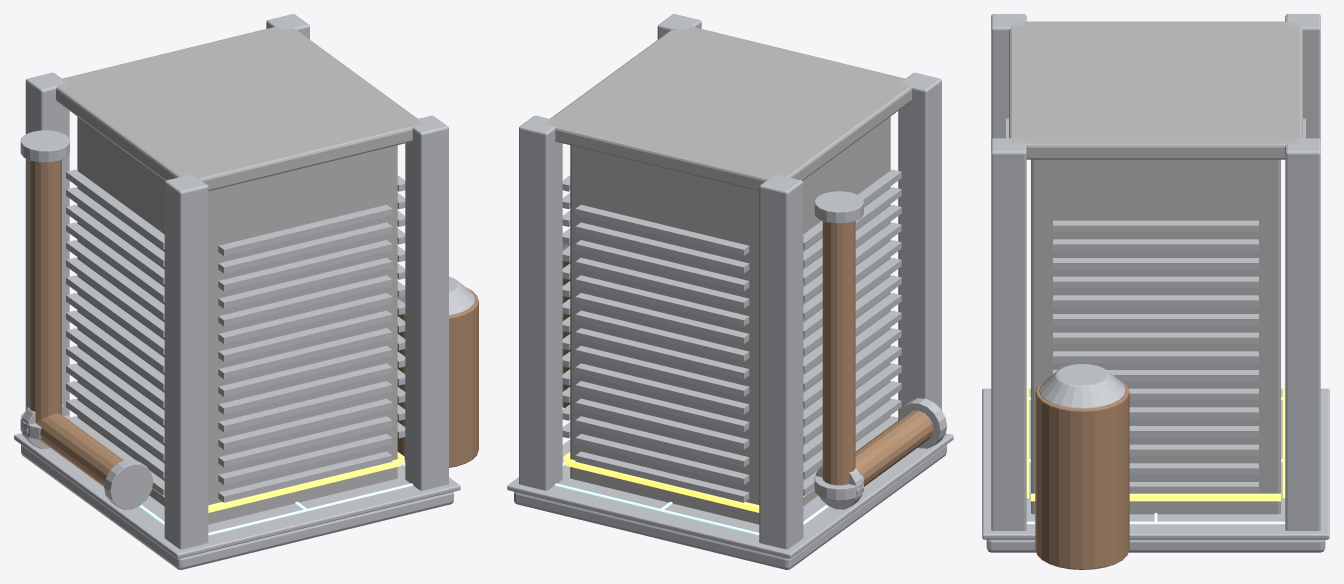
Rendered from mech_2x2_concrete.glb.
3 views of the same model, side by side, from view 1: azimuth 30°, elevation 25°; view 2: azimuth 150°, elevation 25°; view 3: azimuth 270°, elevation 25° (orthographic). The views are drawn at different scales.
Parts seen in each view (by area): view 1: ext_core, int_columns, int_ceiling, ext_louver3, ext_louver2, int_slab_edge, ext_bigpipe2, int_slab, ext_tank, ext_bigpipe, ext_bigpipe_fl0, ext_louver0 (+4 smaller); view 2: int_columns, ext_core, int_ceiling, ext_louver1, ext_louver2, int_slab_edge, ext_bigpipe2, int_slab, ext_bigpipe, ext_louver0, ext_mech_glow, ext_bigpipe2_fl1 (+4 smaller); view 3: ext_core, int_ceiling, int_columns, ext_louver0, ext_tank, int_slab_edge, int_slab, ext_tank_cap, ext_mech_glow, int_grid.
Part boxes in pixels (x1,y1,x2,y2): ext_core: (77,117,397,524); int_columns: (25,14,448,549); int_ceiling: (56,26,422,191); ext_louver3: (218,204,392,502); ext_louver2: (66,169,164,495); int_slab_edge: (14,433,460,558); ext_bigpipe2: (29,160,61,422); int_slab: (21,445,453,569); ext_tank: (397,287,478,467); ext_bigpipe: (36,414,123,486); ext_bigpipe_fl0: (104,459,153,509); ext_louver0: (397,175,405,438); int_columns: (519,14,941,549); ext_core: (570,116,890,524); int_ceiling: (545,26,911,191); ext_louver1: (575,205,749,502); ext_louver2: (803,169,901,495); int_slab_edge: (507,433,953,558); ext_bigpipe2: (822,221,855,485); int_slab: (514,444,946,569); ext_bigpipe: (855,410,933,486); ext_louver0: (562,175,570,438); ext_mech_glow: (563,452,813,512); ext_bigpipe2_fl1: (814,191,863,223); ext_core: (1031,159,1280,514); int_ceiling: (1009,21,1302,159); int_columns: (991,14,1320,530); ext_louver0: (1053,220,1258,493); ext_tank: (1035,377,1129,569); int_slab_edge: (982,388,1329,539); int_slab: (986,539,1325,552); ext_tank_cap: (1039,364,1125,408); ext_mech_glow: (1026,387,1285,501); int_grid: (1026,397,1285,524).
Bounding box in the file's own units: 3.1 × 3 × 2.36.
